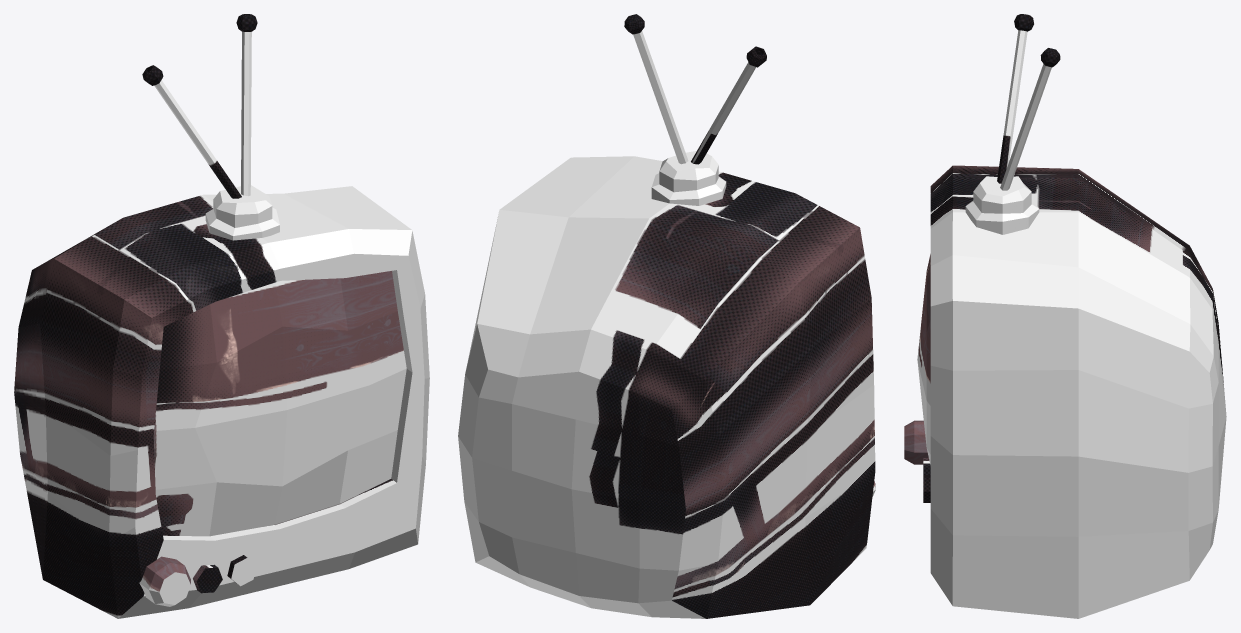
3 views of the same model, side by side, from view 1: azimuth 30°, elevation 25°; view 2: azimuth 150°, elevation 25°; view 3: azimuth 270°, elevation 25° (orthographic). The views are drawn at different scales.
Visible parts, largest first — view 1: TV; view 2: TV; view 3: TV.
Boxes of the visible parts, x1,y1,x2,y2 form: TV: (14,14,429,618); TV: (458,14,875,618); TV: (904,14,1226,618).
Bounding box in the file's own units: 0.4899 × 0.7581 × 0.4355.
